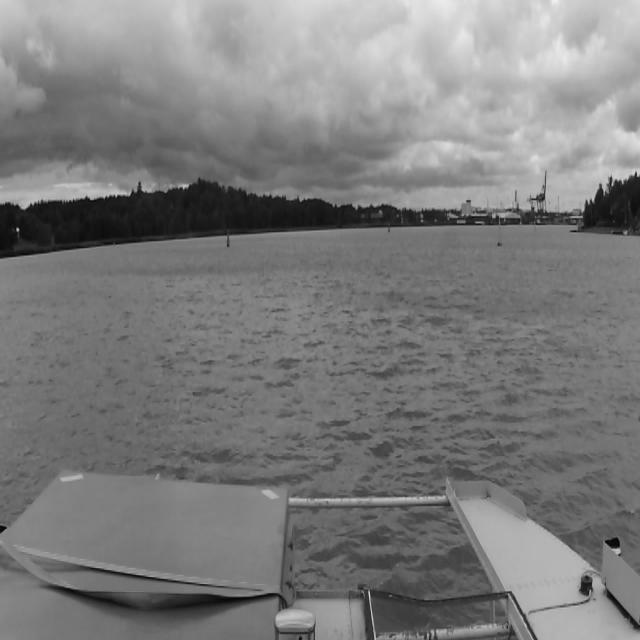buoy: (497, 215, 503, 245), (225, 225, 231, 245)
